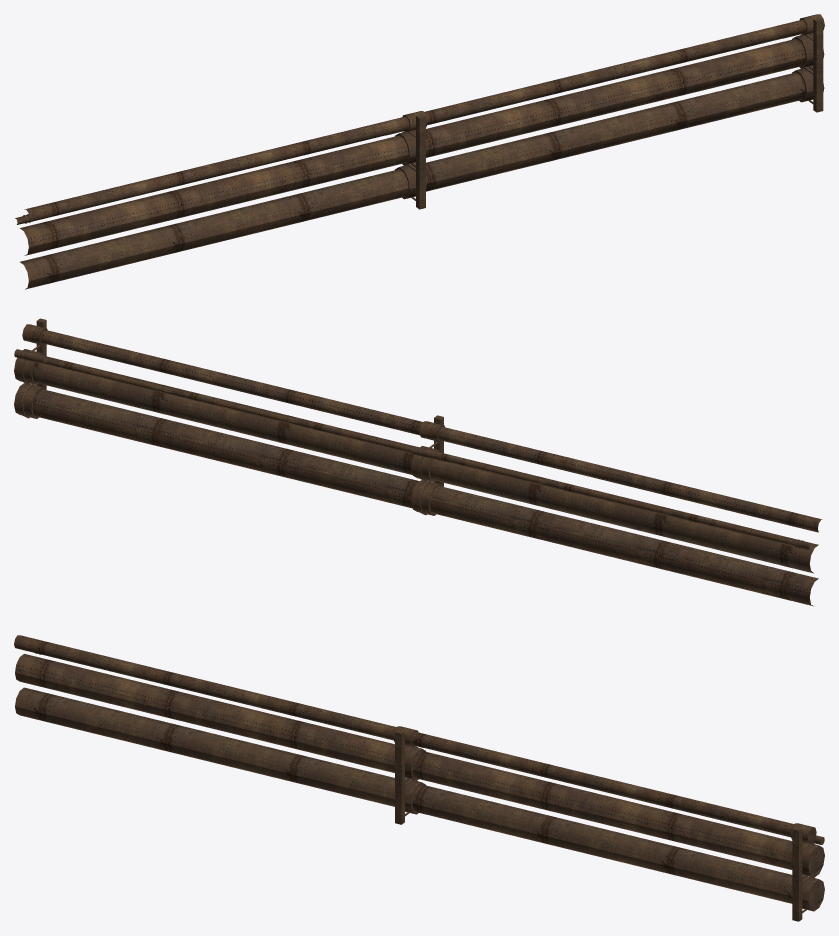
File: pipeset08d_256_001a.glb
The picture shows the model from 3 angles, top to bottom: view 1: azimuth 30°, elevation 25°; view 2: azimuth 150°, elevation 25°; view 3: azimuth 330°, elevation 25°; orthographic projection.
Parts seen in each view (by area): view 1: 0_pipeset_metal; view 2: 0_pipeset_metal; view 3: 0_pipeset_metal.
Part boxes in pixels (x1,y1,x2,y2): 0_pipeset_metal: [15, 14, 824, 289]; 0_pipeset_metal: [14, 318, 822, 606]; 0_pipeset_metal: [14, 635, 824, 921].
Bounding box in the file's own units: 6.5 × 0.7112 × 0.3048.
1 material, 1 textured.
